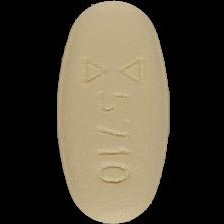63629-3998: (0, 0, 224, 224)
